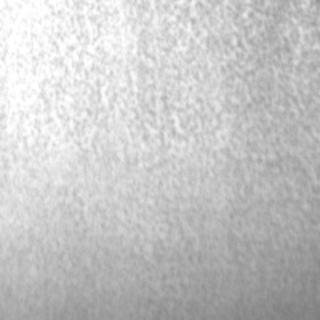pitted_surface: (0, 0, 316, 164)
